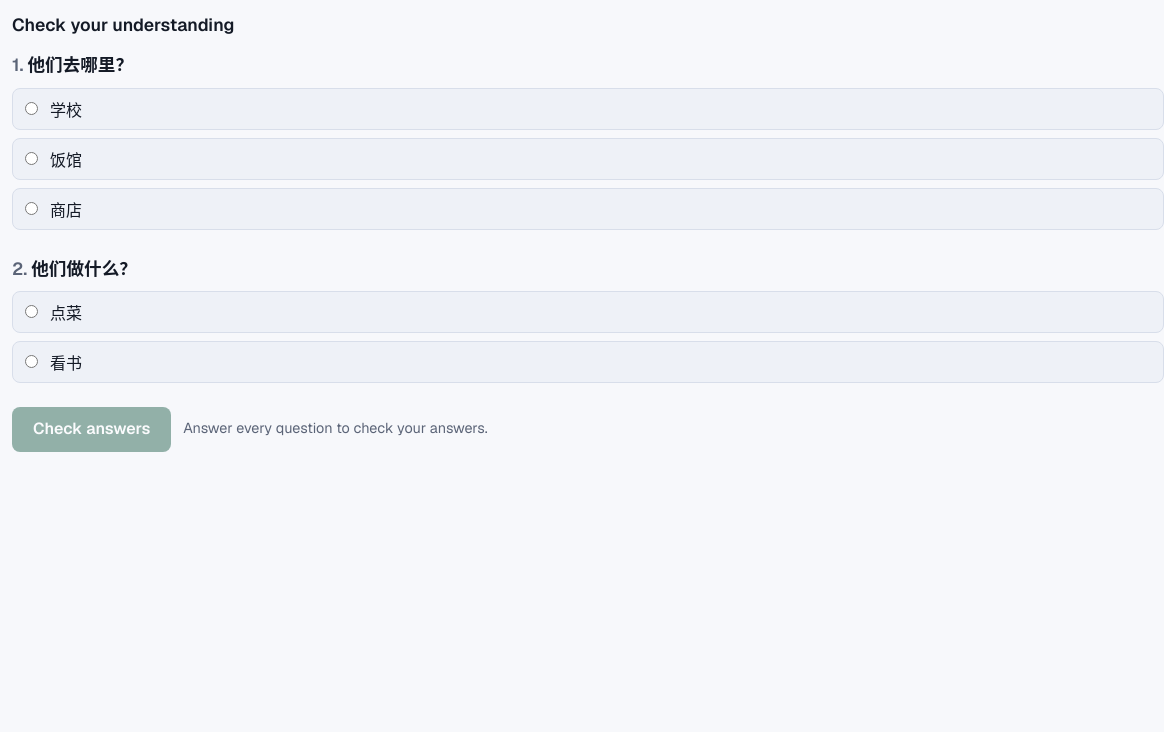
Scenario: StoryQuiz › sends the chosen options and shows the marked answers
Click the radio button labelled "饭馆" at (32, 158), box [25,152,38,165]
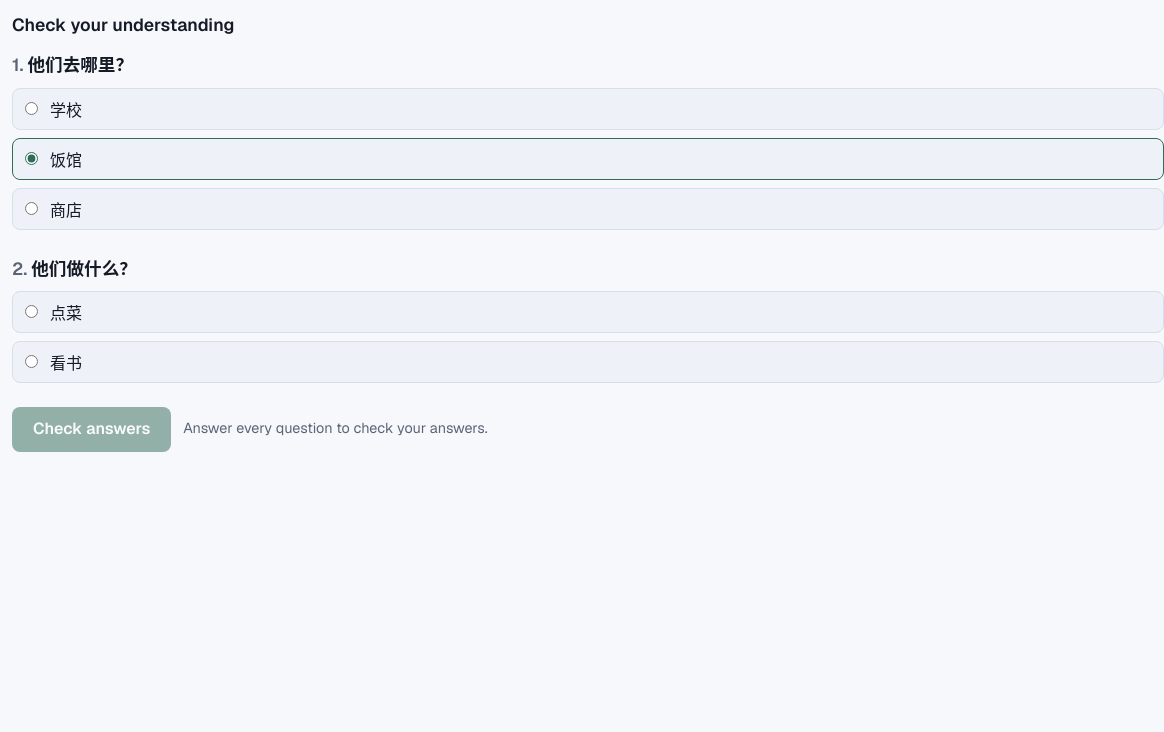
Click the radio button labelled "看书" at (32, 362), box [25,355,38,368]
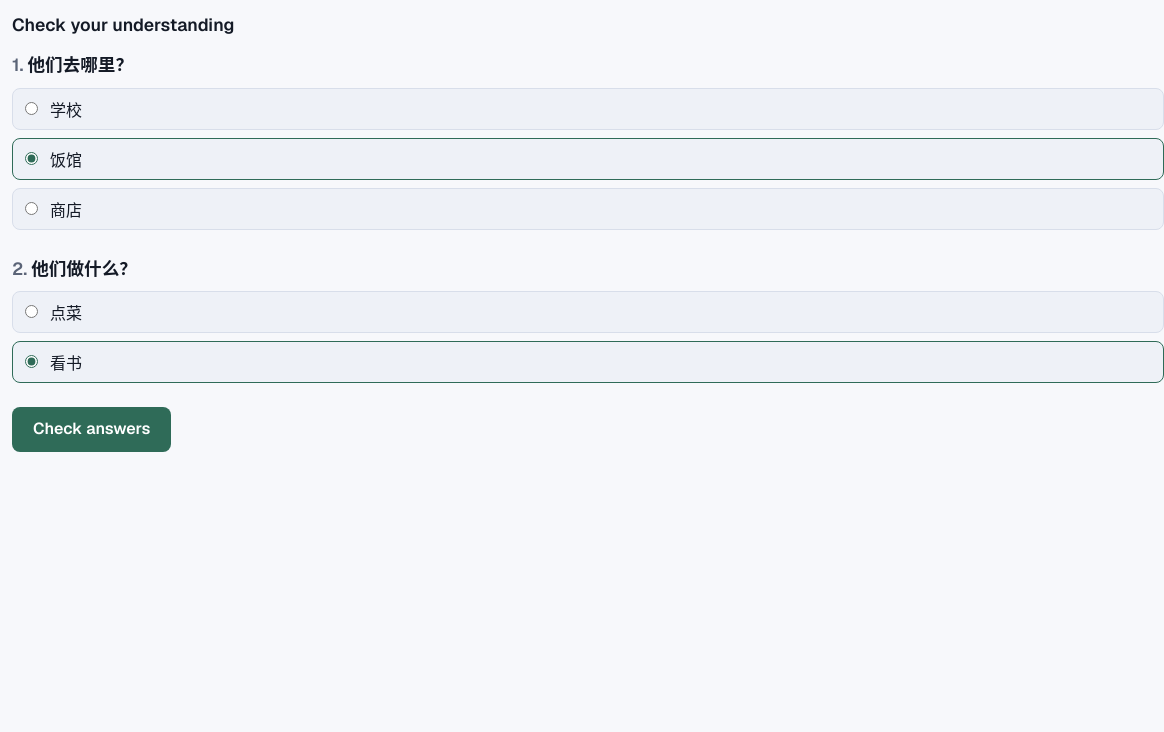
Click the button "Check answers" at (92, 429), box [12,407,171,452]
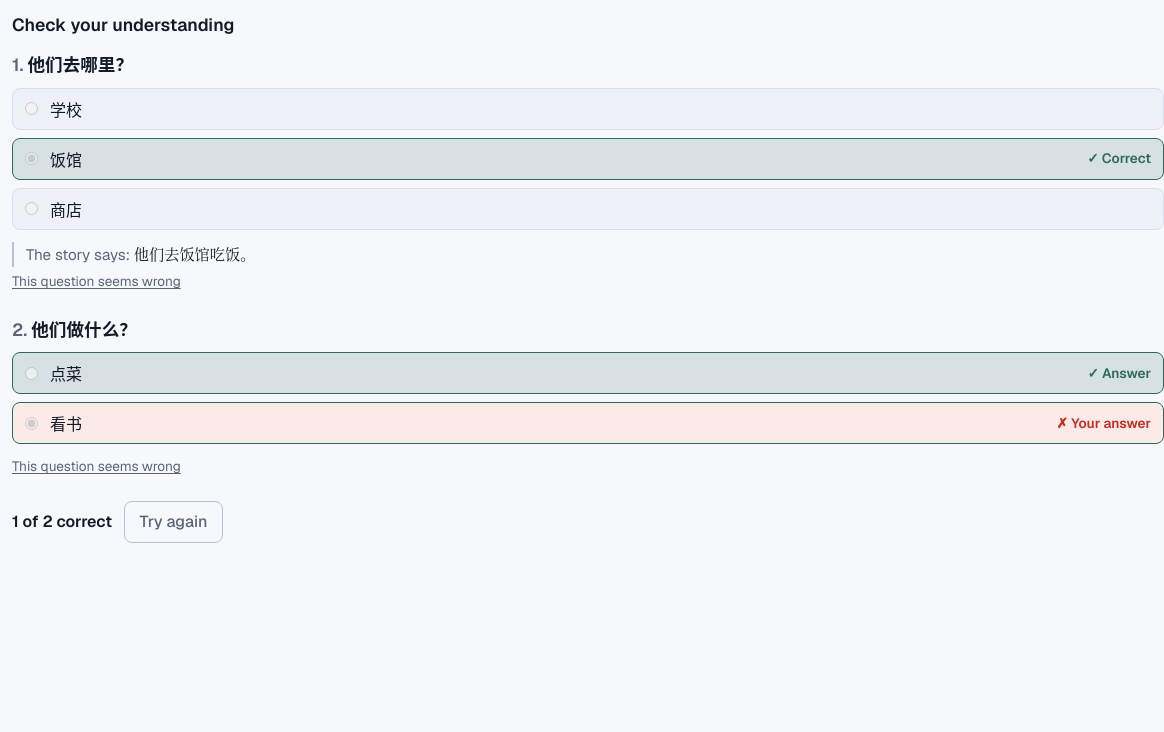
expect the radio button labelled "饭馆 ✓ Correct" is disabled: met, box [25,152,38,165]
expect the message reads "1 of 2 correct": met, box [12,510,112,534]
